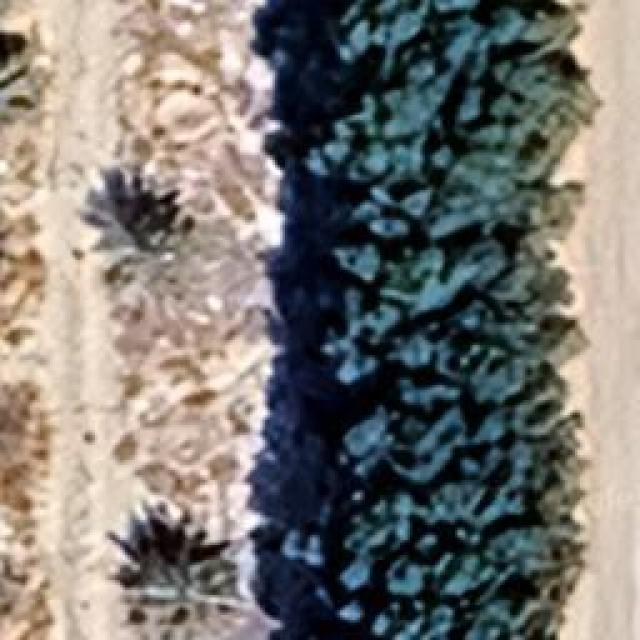PalmTree: (22, 77, 144, 219), (135, 550, 245, 638), (0, 549, 55, 640)
